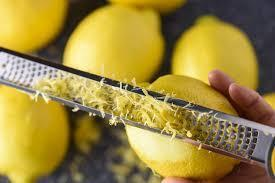lemon: (125, 73, 241, 183), (62, 3, 164, 84), (0, 83, 68, 183), (172, 14, 258, 91), (0, 0, 68, 55), (109, 0, 185, 12)
